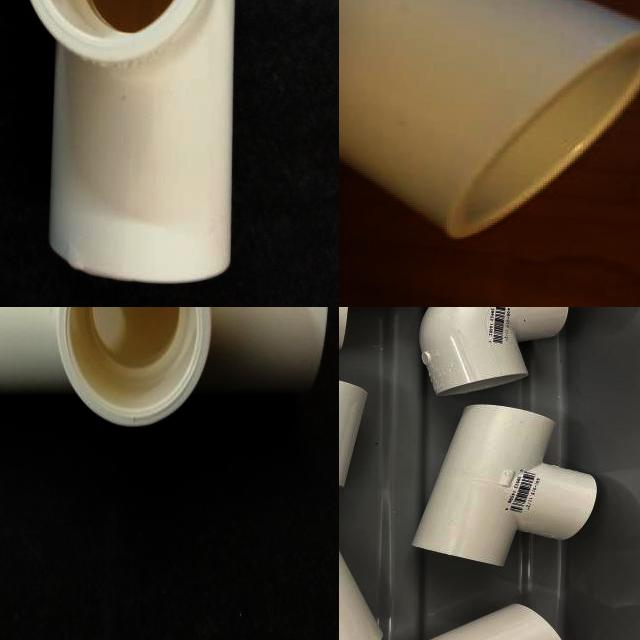L Joint: (420, 307, 569, 396)
T Joint: (339, 0, 640, 242), (26, 0, 235, 287), (410, 405, 599, 569)
